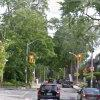Tree: (9, 2, 86, 67)
